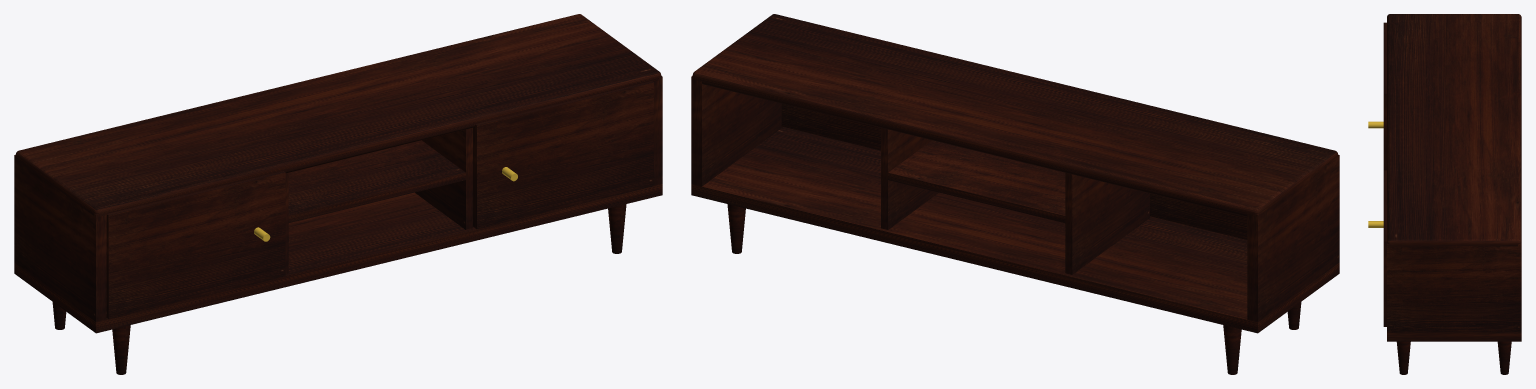
Rendered from state-default.glb.
The picture shows the model from 3 angles, left to right: view 1: azimuth 30°, elevation 25°; view 2: azimuth 150°, elevation 25°; view 3: azimuth 270°, elevation 25°; orthographic projection. The views are drawn at different scales.
Visible parts, largest first — view 1: assetPrim:2f1b51866fa368-19c731443ef:tv-stand-top, assetPrim:2f1b51866fa368-19c731443ef:tv-stand-door-r, assetPrim:2f1b51866fa368-19c731443ef:tv-stand-door-l, assetPrim:2f1b51866fa368-19c731443ef:tv-stand-bottom, assetPrim:2f1b51866fa368-19c731443ef:tv-stand-side-l, assetPrim:2f1b51866fa368-19c731443ef:tv-stand-shelf-mid, assetPrim:2f1b51866fa368-19c731443ef:tv-stand-div-r, assetPrim:2f1b51866fa368-19c731443ef:tv-stand-side-r, assetPrim:2f1b51866fa368-19c731443ef:tv-stand-leg-fl, assetPrim:2f1b51866fa368-19c731443ef:tv-stand-leg-fr; view 2: assetPrim:2f1b51866fa368-19c731443ef:tv-stand-top, assetPrim:2f1b51866fa368-19c731443ef:tv-stand-bottom, assetPrim:2f1b51866fa368-19c731443ef:tv-stand-side-l, assetPrim:2f1b51866fa368-19c731443ef:tv-stand-shelf-mid, assetPrim:2f1b51866fa368-19c731443ef:tv-stand-side-r, assetPrim:2f1b51866fa368-19c731443ef:tv-stand-div-l, assetPrim:2f1b51866fa368-19c731443ef:tv-stand-div-r, assetPrim:2f1b51866fa368-19c731443ef:tv-stand-door-r, assetPrim:2f1b51866fa368-19c731443ef:tv-stand-door-l, assetPrim:2f1b51866fa368-19c731443ef:tv-stand-leg-bl, assetPrim:2f1b51866fa368-19c731443ef:tv-stand-leg-br; view 3: assetPrim:2f1b51866fa368-19c731443ef:tv-stand-top, assetPrim:2f1b51866fa368-19c731443ef:tv-stand-side-r, assetPrim:2f1b51866fa368-19c731443ef:tv-stand-bottom, assetPrim:2f1b51866fa368-19c731443ef:tv-stand-door-r, assetPrim:2f1b51866fa368-19c731443ef:tv-stand-door-l, assetPrim:2f1b51866fa368-19c731443ef:tv-stand-leg-fr, assetPrim:2f1b51866fa368-19c731443ef:tv-stand-leg-br.
Boxes of the visible parts, x1=… form: assetPrim:2f1b51866fa368-19c731443ef:tv-stand-top: x1=15, y1=14, x2=661, y2=216; assetPrim:2f1b51866fa368-19c731443ef:tv-stand-door-r: x1=473, y1=81, x2=653, y2=229; assetPrim:2f1b51866fa368-19c731443ef:tv-stand-door-l: x1=106, y1=171, x2=285, y2=319; assetPrim:2f1b51866fa368-19c731443ef:tv-stand-bottom: x1=14, y1=184, x2=662, y2=333; assetPrim:2f1b51866fa368-19c731443ef:tv-stand-side-l: x1=14, y1=154, x2=106, y2=322; assetPrim:2f1b51866fa368-19c731443ef:tv-stand-shelf-mid: x1=288, y1=140, x2=465, y2=222; assetPrim:2f1b51866fa368-19c731443ef:tv-stand-div-r: x1=415, y1=128, x2=472, y2=229; assetPrim:2f1b51866fa368-19c731443ef:tv-stand-side-r: x1=653, y1=76, x2=662, y2=185; assetPrim:2f1b51866fa368-19c731443ef:tv-stand-leg-fl: x1=112, y1=325, x2=130, y2=374; assetPrim:2f1b51866fa368-19c731443ef:tv-stand-leg-fr: x1=608, y1=204, x2=626, y2=253; assetPrim:2f1b51866fa368-19c731443ef:tv-stand-top: x1=692, y1=14, x2=1338, y2=216; assetPrim:2f1b51866fa368-19c731443ef:tv-stand-bottom: x1=691, y1=127, x2=1339, y2=333; assetPrim:2f1b51866fa368-19c731443ef:tv-stand-side-l: x1=1247, y1=154, x2=1339, y2=322; assetPrim:2f1b51866fa368-19c731443ef:tv-stand-shelf-mid: x1=888, y1=140, x2=1065, y2=222; assetPrim:2f1b51866fa368-19c731443ef:tv-stand-side-r: x1=691, y1=76, x2=782, y2=186; assetPrim:2f1b51866fa368-19c731443ef:tv-stand-div-l: x1=1065, y1=173, x2=1149, y2=274; assetPrim:2f1b51866fa368-19c731443ef:tv-stand-div-r: x1=881, y1=128, x2=938, y2=229; assetPrim:2f1b51866fa368-19c731443ef:tv-stand-door-r: x1=781, y1=103, x2=880, y2=150; assetPrim:2f1b51866fa368-19c731443ef:tv-stand-door-l: x1=1150, y1=193, x2=1247, y2=239; assetPrim:2f1b51866fa368-19c731443ef:tv-stand-leg-bl: x1=1223, y1=325, x2=1241, y2=374; assetPrim:2f1b51866fa368-19c731443ef:tv-stand-leg-br: x1=727, y1=204, x2=745, y2=253; assetPrim:2f1b51866fa368-19c731443ef:tv-stand-top: x1=1387, y1=14, x2=1521, y2=246; assetPrim:2f1b51866fa368-19c731443ef:tv-stand-side-r: x1=1387, y1=243, x2=1521, y2=332; assetPrim:2f1b51866fa368-19c731443ef:tv-stand-bottom: x1=1387, y1=332, x2=1521, y2=341; assetPrim:2f1b51866fa368-19c731443ef:tv-stand-door-r: x1=1383, y1=170, x2=1386, y2=326; assetPrim:2f1b51866fa368-19c731443ef:tv-stand-door-l: x1=1383, y1=22, x2=1386, y2=170; assetPrim:2f1b51866fa368-19c731443ef:tv-stand-leg-fr: x1=1396, y1=341, x2=1410, y2=374; assetPrim:2f1b51866fa368-19c731443ef:tv-stand-leg-br: x1=1497, y1=341, x2=1511, y2=374.
Bounding box in the file's own units: 1.6 × 0.4828 × 0.455.
15 materials, 13 textured.
